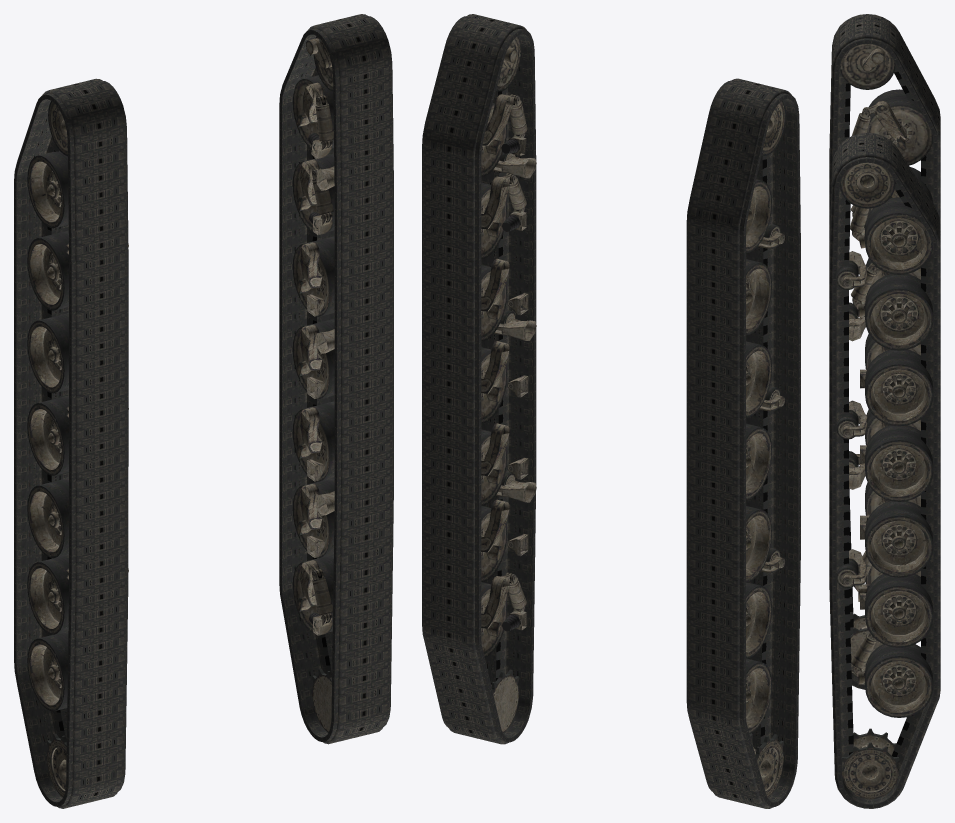
File: Chassis.glb
3 renders of one model, left to right at view 1: azimuth 30°, elevation 25°; view 2: azimuth 150°, elevation 25°; view 3: azimuth 270°, elevation 25°, orthographic. The views are drawn at different scales.
Parts seen in each view (by area): view 1: set_0_group_0, set_1_group_0, set_3_group_0, set_2_group_0; view 2: set_0_group_0, set_1_group_0, set_3_group_0, set_2_group_0; view 3: set_3_group_0, set_1_group_0, set_2_group_0, set_0_group_0.
Boxes of the visible parts, x1,y1,x2,y2 form: set_0_group_0: (14,78,128,808); set_1_group_0: (279,14,393,744); set_3_group_0: (292,36,334,732); set_2_group_0: (27,101,128,797); set_0_group_0: (686,78,800,808); set_1_group_0: (422,14,536,744); set_3_group_0: (481,36,536,732); set_2_group_0: (746,100,785,797); set_3_group_0: (836,162,933,799); set_1_group_0: (829,132,940,808); set_2_group_0: (839,44,932,677); set_0_group_0: (829,14,940,689).
Bounding box in the file's own units: 3.39 × 7.19 × 1.11.
Materials: 4 (4 with a texture image).
